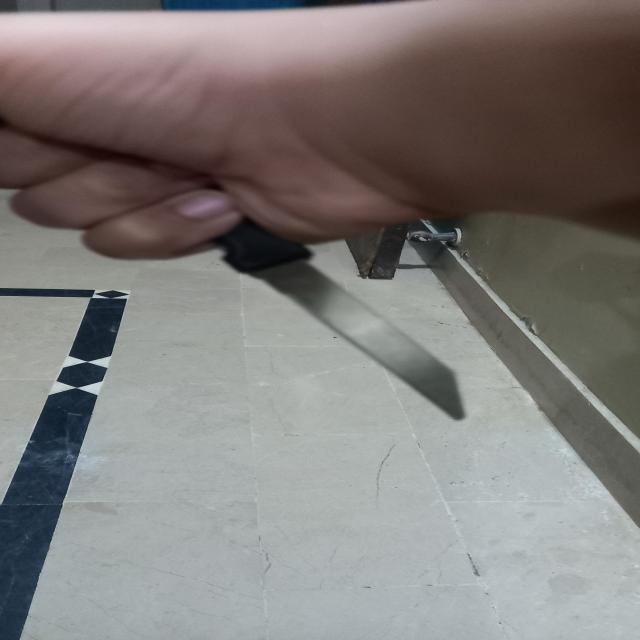Knife: (219, 215, 466, 422)
Person: (0, 0, 640, 257)
